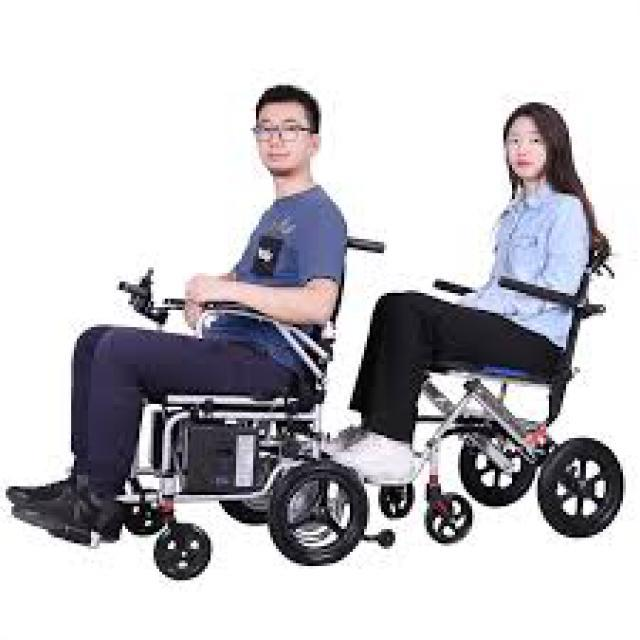wheelchairs: (31, 219, 390, 583), (378, 231, 623, 544)
